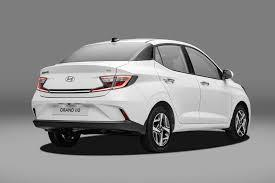hyundai: (59, 70, 76, 83)
